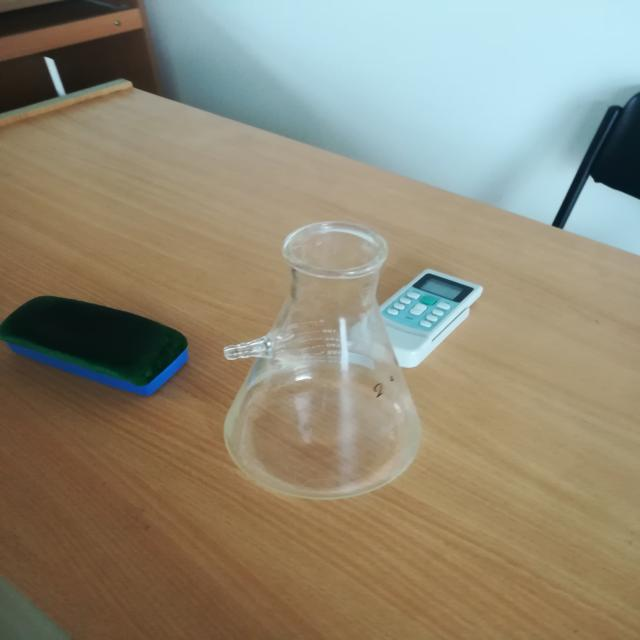Conical_Flask: (181, 205, 488, 513)
